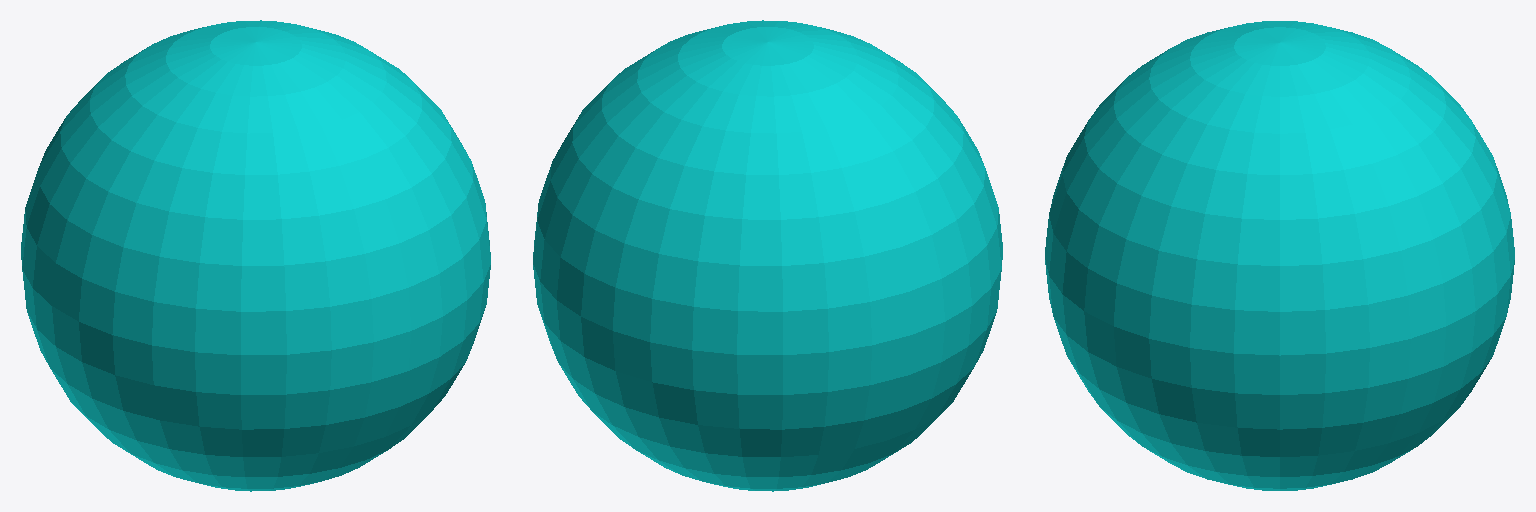
URDF robot description (ant):
<?xml version="1.0" ?>
<robot name="ant">
	<material name="light_blue">
    	<color rgba="0.1 0.85 0.85 1.0"/>
 	</material>
	<link name="torso">
		<inertial>
			<origin rpy="0.00000 -0.00000 0.00000" xyz="0.00000 0.00000 0.00000"/>
			<mass value="65.44985"/>
			<inertia ixx="1.63625" ixy="0" ixz="0" iyy="1.63625" iyz="0" izz="1.63625"/>
			<geometry>
				<sphere radius="0.25000"/>
			</geometry>
		</inertial>
		<visual>
			<origin rpy="0.00000 -0.00000 0.00000" xyz="0.00000 0.00000 0.00000"/>
			<geometry>
				<sphere radius="0.25000"/>
			</geometry>
			<material name="light_blue"/>
		</visual>
		<collision>
			<origin rpy="0.00000 -0.00000 0.00000" xyz="0.00000 0.00000 0.00000"/>
			<geometry>
				<sphere radius="0.25000"/>
			</geometry>
		</collision>
	</link>
	<link name="front_left_leg">
		<inertial>
			<origin rpy="0.00000 -0.00000 0.00000" xyz="0.10000 0.10000 0.00000"/>
			<mass value="7.83155"/>
			<inertia ixx="0.17951" ixy="0" ixz="0" iyy="0.17951" iyz="0" izz="0.29219"/>
		</inertial>
		<visual>
			<origin rpy="-1.57080 0.78540 -0.78540" xyz="0.10000 0.10000 0.00000"/>
			<geometry>
				<capsule length="0.28284" radius="0.08000"/>
			</geometry>
			<material name="light_blue"/>
		</visual>
		<collision>
			<origin rpy="-1.57080 0.78540 -0.78540" xyz="0.10000 0.10000 0.00000"/>
			<geometry>
				<capsule length="0.28284" radius="0.08000"/>
			</geometry>
		</collision>
	</link>
	<link name="link0_3">
		<inertial>
			<origin rpy="0.00000 -0.00000 0.00000" xyz="0.00000 0.00000 0.00000"/>
			<mass value="0.00000"/>
			<inertia ixx="0.00000" ixy="0" ixz="0" iyy="0.00000" iyz="0" izz="0.00000"/>
		</inertial>
	</link>
	<link name="aux_1">
		<inertial>
			<origin rpy="0.00000 -0.00000 0.00000" xyz="0.10000 0.10000 0.00000"/>
			<mass value="7.83155"/>
			<inertia ixx="0.17951" ixy="0" ixz="0" iyy="0.17951" iyz="0" izz="0.29219"/>
		</inertial>
		<visual>
			<origin rpy="-1.57080 0.78540 -0.78540" xyz="0.10000 0.10000 0.00000"/>
			<geometry>
				<capsule length="0.28284" radius="0.08000"/>
			</geometry>
			<material name="light_blue"/>
		</visual>
		<collision>
			<origin rpy="-1.57080 0.78540 -0.78540" xyz="0.10000 0.10000 0.00000"/>
			<geometry>
				<capsule length="0.28284" radius="0.08000"/>
			</geometry>
		</collision>
	</link>
	<link name="link0_5">
		<inertial>
			<origin rpy="0.00000 -0.00000 0.00000" xyz="0.00000 0.00000 0.00000"/>
			<mass value="0.00000"/>
			<inertia ixx="0.00000" ixy="0" ixz="0" iyy="0.00000" iyz="0" izz="0.00000"/>
		</inertial>
	</link>
	<link name="front_left_foot">
		<inertial>
			<origin rpy="0.00000 -0.00000 0.00000" xyz="0.20000 0.20000 0.00000"/>
			<mass value="13.51844"/>
			<inertia ixx="0.56813" ixy="0" ixz="0" iyy="0.56813" iyz="0" izz="1.02090"/>
		</inertial>
		<visual>
			<origin rpy="-1.57080 0.78540 -0.78540" xyz="0.20000 0.20000 0.00000"/>
			<geometry>
				<capsule length="0.56569" radius="0.08000"/>
			</geometry>
			<material name="light_blue"/>
		</visual>
		<collision>
			<origin rpy="-1.57080 0.78540 -0.78540" xyz="0.20000 0.20000 0.00000"/>
			<geometry>
				<capsule length="0.56569" radius="0.08000"/>
			</geometry>
		</collision>
	</link>
	<link name="front_right_leg">
		<inertial>
			<origin rpy="0.00000 -0.00000 0.00000" xyz="-0.10000 0.10000 0.00000"/>
			<mass value="7.83155"/>
			<inertia ixx="0.17951" ixy="0" ixz="0" iyy="0.17951" iyz="0" izz="0.29219"/>
		</inertial>
		<visual>
			<origin rpy="-1.57080 -0.78540 0.78540" xyz="-0.10000 0.10000 0.00000"/>
			<geometry>
				<capsule length="0.28284" radius="0.08000"/>
			</geometry>
			<material name="light_blue"/>
		</visual>
		<collision>
			<origin rpy="-1.57080 -0.78540 0.78540" xyz="-0.10000 0.10000 0.00000"/>
			<geometry>
				<capsule length="0.28284" radius="0.08000"/>
			</geometry>
		</collision>
	</link>
	<link name="link0_8">
		<inertial>
			<origin rpy="0.00000 -0.00000 0.00000" xyz="0.00000 0.00000 0.00000"/>
			<mass value="0.00000"/>
			<inertia ixx="0.00000" ixy="0" ixz="0" iyy="0.00000" iyz="0" izz="0.00000"/>
		</inertial>
	</link>
	<link name="aux_2">
		<inertial>
			<origin rpy="0.00000 -0.00000 0.00000" xyz="-0.10000 0.10000 0.00000"/>
			<mass value="7.83155"/>
			<inertia ixx="0.17951" ixy="0" ixz="0" iyy="0.17951" iyz="0" izz="0.29219"/>
		</inertial>
		<visual>
			<origin rpy="-1.57080 -0.78540 0.78540" xyz="-0.10000 0.10000 0.00000"/>
			<geometry>
				<capsule length="0.28284" radius="0.08000"/>
			</geometry>
			<material name="light_blue"/>
		</visual>
		<collision>
			<origin rpy="-1.57080 -0.78540 0.78540" xyz="-0.10000 0.10000 0.00000"/>
			<geometry>
				<capsule length="0.28284" radius="0.08000"/>
			</geometry>
		</collision>
	</link>
	<link name="link0_10">
		<inertial>
			<origin rpy="0.00000 -0.00000 0.00000" xyz="0.00000 0.00000 0.00000"/>
			<mass value="0.00000"/>
			<inertia ixx="0.00000" ixy="0" ixz="0" iyy="0.00000" iyz="0" izz="0.00000"/>
		</inertial>
	</link>
	<link name="front_right_foot">
		<inertial>
			<origin rpy="0.00000 -0.00000 0.00000" xyz="-0.20000 0.20000 0.00000"/>
			<mass value="13.51844"/>
			<inertia ixx="0.56813" ixy="0" ixz="0" iyy="0.56813" iyz="0" izz="1.02090"/>
		</inertial>
		<visual>
			<origin rpy="-1.57080 -0.78540 0.78540" xyz="-0.20000 0.20000 0.00000"/>
			<geometry>
				<capsule length="0.56569" radius="0.08000"/>
			</geometry>
			<material name="light_blue"/>
		</visual>
		<collision>
			<origin rpy="-1.57080 -0.78540 0.78540" xyz="-0.20000 0.20000 0.00000"/>
			<geometry>
				<capsule length="0.56569" radius="0.08000"/>
			</geometry>
		</collision>
	</link>
	<link name="left_back_leg">
		<inertial>
			<origin rpy="0.00000 -0.00000 0.00000" xyz="-0.10000 -0.10000 0.00000"/>
			<mass value="7.83155"/>
			<inertia ixx="0.17951" ixy="0" ixz="0" iyy="0.17951" iyz="0" izz="0.29219"/>
		</inertial>
		<visual>
			<origin rpy="1.57080 -0.78540 -0.78540" xyz="-0.10000 -0.10000 0.00000"/>
			<geometry>
				<capsule length="0.28284" radius="0.08000"/>
			</geometry>
			<material name="light_blue"/>
		</visual>
		<collision>
			<origin rpy="1.57080 -0.78540 -0.78540" xyz="-0.10000 -0.10000 0.00000"/>
			<geometry>
				<capsule length="0.28284" radius="0.08000"/>
			</geometry>
		</collision>
	</link>
	<link name="link0_13">
		<inertial>
			<origin rpy="0.00000 -0.00000 0.00000" xyz="0.00000 0.00000 0.00000"/>
			<mass value="0.00000"/>
			<inertia ixx="0.00000" ixy="0" ixz="0" iyy="0.00000" iyz="0" izz="0.00000"/>
		</inertial>
	</link>
	<link name="aux_3">
		<inertial>
			<origin rpy="0.00000 -0.00000 0.00000" xyz="-0.10000 -0.10000 0.00000"/>
			<mass value="7.83155"/>
			<inertia ixx="0.17951" ixy="0" ixz="0" iyy="0.17951" iyz="0" izz="0.29219"/>
		</inertial>
		<visual>
			<origin rpy="1.57080 -0.78540 -0.78540" xyz="-0.10000 -0.10000 0.00000"/>
			<geometry>
				<capsule length="0.28284" radius="0.08000"/>
			</geometry>
			<material name="light_blue"/>
		</visual>
		<collision>
			<origin rpy="1.57080 -0.78540 -0.78540" xyz="-0.10000 -0.10000 0.00000"/>
			<geometry>
				<capsule length="0.28284" radius="0.08000"/>
			</geometry>
		</collision>
	</link>
	<link name="link0_15">
		<inertial>
			<origin rpy="0.00000 -0.00000 0.00000" xyz="0.00000 0.00000 0.00000"/>
			<mass value="0.00000"/>
			<inertia ixx="0.00000" ixy="0" ixz="0" iyy="0.00000" iyz="0" izz="0.00000"/>
		</inertial>
	</link>
	<link name="left_back_foot">
		<inertial>
			<origin rpy="0.00000 -0.00000 0.00000" xyz="-0.20000 -0.20000 0.00000"/>
			<mass value="13.51844"/>
			<inertia ixx="0.56813" ixy="0" ixz="0" iyy="0.56813" iyz="0" izz="1.02090"/>
		</inertial>
		<visual>
			<origin rpy="1.57080 -0.78540 -0.78540" xyz="-0.20000 -0.20000 0.00000"/>
			<geometry>
				<capsule length="0.56569" radius="0.08000"/>
			</geometry>
			<material name="light_blue"/>
		</visual>
		<collision>
			<origin rpy="1.57080 -0.78540 -0.78540" xyz="-0.20000 -0.20000 0.00000"/>
			<geometry>
				<capsule length="0.56569" radius="0.08000"/>
			</geometry>
		</collision>
	</link>
	<link name="right_back_leg">
		<inertial>
			<origin rpy="0.00000 -0.00000 0.00000" xyz="0.10000 -0.10000 0.00000"/>
			<mass value="7.83155"/>
			<inertia ixx="0.17951" ixy="0" ixz="0" iyy="0.17951" iyz="0" izz="0.29219"/>
		</inertial>
		<visual>
			<origin rpy="1.57080 0.78540 0.78540" xyz="0.10000 -0.10000 0.00000"/>
			<geometry>
				<capsule length="0.28284" radius="0.08000"/>
			</geometry>
			<material name="light_blue"/>
		</visual>
		<collision>
			<origin rpy="1.57080 0.78540 0.78540" xyz="0.10000 -0.10000 0.00000"/>
			<geometry>
				<capsule length="0.28284" radius="0.08000"/>
			</geometry>
		</collision>
	</link>
	<link name="link0_18">
		<inertial>
			<origin rpy="0.00000 -0.00000 0.00000" xyz="0.00000 0.00000 0.00000"/>
			<mass value="0.00000"/>
			<inertia ixx="0.00000" ixy="0" ixz="0" iyy="0.00000" iyz="0" izz="0.00000"/>
		</inertial>
	</link>
	<link name="aux_4">
		<inertial>
			<origin rpy="0.00000 -0.00000 0.00000" xyz="0.10000 -0.10000 0.00000"/>
			<mass value="7.83155"/>
			<inertia ixx="0.17951" ixy="0" ixz="0" iyy="0.17951" iyz="0" izz="0.29219"/>
		</inertial>
		<visual>
			<origin rpy="1.57080 0.78540 0.78540" xyz="0.10000 -0.10000 0.00000"/>
			<geometry>
				<capsule length="0.28284" radius="0.08000"/>
			</geometry>
			<material name="light_blue"/>
		</visual>
		<collision>
			<origin rpy="1.57080 0.78540 0.78540" xyz="0.10000 -0.10000 0.00000"/>
			<geometry>
				<capsule length="0.28284" radius="0.08000"/>
			</geometry>
		</collision>
	</link>
	<link name="link0_20">
		<inertial>
			<origin rpy="0.00000 -0.00000 0.00000" xyz="0.00000 0.00000 0.00000"/>
			<mass value="0.00000"/>
			<inertia ixx="0.00000" ixy="0" ixz="0" iyy="0.00000" iyz="0" izz="0.00000"/>
		</inertial>
	</link>
	<link name="right_back_foot">
		<inertial>
			<origin rpy="0.00000 -0.00000 0.00000" xyz="0.20000 -0.20000 0.00000"/>
			<mass value="13.51844"/>
			<inertia ixx="0.56813" ixy="0" ixz="0" iyy="0.56813" iyz="0" izz="1.02090"/>
		</inertial>
		<visual>
			<origin rpy="1.57080 0.78540 0.78540" xyz="0.20000 -0.20000 0.00000"/>
			<geometry>
				<capsule length="0.56569" radius="0.08000"/>
			</geometry>
			<material name="light_blue"/>
		</visual>
		<collision>
			<origin rpy="1.57080 0.78540 0.78540" xyz="0.20000 -0.20000 0.00000"/>
			<geometry>
				<capsule length="0.56569" radius="0.08000"/>
			</geometry>
		</collision>
	</link>
	<joint name="jointfix_2_0" type="fixed">
		<parent link="torso"/>
		<child link="front_left_leg"/>
		<dynamics damping="1.0" friction="0.0001"/>
		<origin rpy="0.00000 -0.00000 0.00000" xyz="0.00000 0.00000 0.00000"/>
		<axis xyz="0.00000 0.00000 0.00000"/>
		<limit effort="44.4" lower="-1" upper="1" velocity="40"/>
	</joint>
	<joint name="hip_1" type="revolute">
		<parent link="front_left_leg"/>
		<child link="link0_3"/>
		<dynamics damping="1.0" friction="0.0001"/>
		<origin rpy="0.00000 -0.00000 0.00000" xyz="0.20000 0.20000 0.00000"/>
		<axis xyz="0.00000 0.00000 1.00000"/>
		<limit effort="44.4" lower="-1" upper="1" velocity="40"/>
	</joint>
	<joint name="jointfix_1_3" type="fixed">
		<parent link="link0_3"/>
		<child link="aux_1"/>
		<dynamics damping="1.0" friction="0.0001"/>
		<origin rpy="0.00000 -0.00000 0.00000" xyz="0.00000 0.00000 0.00000"/>
		<axis xyz="0.00000 0.00000 0.00000"/>
		<limit effort="44.4" lower="-1" upper="1" velocity="40"/>
	</joint>
	<joint name="ankle_1" type="revolute">
		<parent link="aux_1"/>
		<child link="link0_5"/>
		<dynamics damping="1.0" friction="0.0001"/>
		<origin rpy="0.00000 -0.00000 0.00000" xyz="0.20000 0.20000 0.00000"/>
		<axis xyz="-1.00000 1.00000 0.00000"/>
		<limit effort="44.4" lower="-1" upper="1" velocity="40"/>
	</joint>
	<joint name="jointfix_0_5" type="fixed">
		<parent link="link0_5"/>
		<child link="front_left_foot"/>
		<dynamics damping="1.0" friction="0.0001"/>
		<origin rpy="0.00000 -0.00000 0.00000" xyz="0.00000 0.00000 0.00000"/>
		<axis xyz="0.00000 0.00000 0.00000"/>
		<limit effort="44.4" lower="-1" upper="1" velocity="40"/>
	</joint>
	<joint name="jointfix_5_0" type="fixed">
		<parent link="torso"/>
		<child link="front_right_leg"/>
		<dynamics damping="1.0" friction="0.0001"/>
		<origin rpy="0.00000 -0.00000 0.00000" xyz="0.00000 0.00000 0.00000"/>
		<axis xyz="0.00000 0.00000 0.00000"/>
		<limit effort="44.4" lower="-1" upper="1" velocity="40"/>
	</joint>
	<joint name="hip_2" type="revolute">
		<parent link="front_right_leg"/>
		<child link="link0_8"/>
		<dynamics damping="1.0" friction="0.0001"/>
		<origin rpy="0.00000 -0.00000 0.00000" xyz="-0.20000 0.20000 0.00000"/>
		<axis xyz="0.00000 0.00000 1.00000"/>
		<limit effort="44.4" lower="-1" upper="1" velocity="40"/>
	</joint>
	<joint name="jointfix_4_8" type="fixed">
		<parent link="link0_8"/>
		<child link="aux_2"/>
		<dynamics damping="1.0" friction="0.0001"/>
		<origin rpy="0.00000 -0.00000 0.00000" xyz="0.00000 0.00000 0.00000"/>
		<axis xyz="0.00000 0.00000 0.00000"/>
		<limit effort="44.4" lower="-1" upper="1" velocity="40"/>
	</joint>
	<joint name="ankle_2" type="revolute">
		<parent link="aux_2"/>
		<child link="link0_10"/>
		<dynamics damping="1.0" friction="0.0001"/>
		<origin rpy="0.00000 -0.00000 0.00000" xyz="-0.20000 0.20000 0.00000"/>
		<axis xyz="1.00000 1.00000 0.00000"/>
		<limit effort="44.4" lower="-1" upper="1" velocity="40"/>
	</joint>
	<joint name="jointfix_3_10" type="fixed">
		<parent link="link0_10"/>
		<child link="front_right_foot"/>
		<dynamics damping="1.0" friction="0.0001"/>
		<origin rpy="0.00000 -0.00000 0.00000" xyz="0.00000 0.00000 0.00000"/>
		<axis xyz="0.00000 0.00000 0.00000"/>
		<limit effort="44.4" lower="-1" upper="1" velocity="40"/>
	</joint>
	<joint name="jointfix_8_0" type="fixed">
		<parent link="torso"/>
		<child link="left_back_leg"/>
		<dynamics damping="1.0" friction="0.0001"/>
		<origin rpy="0.00000 -0.00000 0.00000" xyz="0.00000 0.00000 0.00000"/>
		<axis xyz="0.00000 0.00000 0.00000"/>
		<limit effort="44.4" lower="-1" upper="1" velocity="40"/>
	</joint>
	<joint name="hip_3" type="revolute">
		<parent link="left_back_leg"/>
		<child link="link0_13"/>
		<dynamics damping="1.0" friction="0.0001"/>
		<origin rpy="0.00000 -0.00000 0.00000" xyz="-0.20000 -0.20000 0.00000"/>
		<axis xyz="0.00000 0.00000 1.00000"/>
		<limit effort="44.4" lower="-1" upper="1" velocity="40"/>
	</joint>
	<joint name="jointfix_7_13" type="fixed">
		<parent link="link0_13"/>
		<child link="aux_3"/>
		<dynamics damping="1.0" friction="0.0001"/>
		<origin rpy="0.00000 -0.00000 0.00000" xyz="0.00000 0.00000 0.00000"/>
		<axis xyz="0.00000 0.00000 0.00000"/>
		<limit effort="44.4" lower="-1" upper="1" velocity="40"/>
	</joint>
	<joint name="ankle_3" type="revolute">
		<parent link="aux_3"/>
		<child link="link0_15"/>
		<dynamics damping="1.0" friction="0.0001"/>
		<origin rpy="0.00000 -0.00000 0.00000" xyz="-0.20000 -0.20000 0.00000"/>
		<axis xyz="-1.00000 1.00000 0.00000"/>
		<limit effort="44.4" lower="-1" upper="1" velocity="40"/>
	</joint>
	<joint name="jointfix_6_15" type="fixed">
		<parent link="link0_15"/>
		<child link="left_back_foot"/>
		<dynamics damping="1.0" friction="0.0001"/>
		<origin rpy="0.00000 -0.00000 0.00000" xyz="0.00000 0.00000 0.00000"/>
		<axis xyz="0.00000 0.00000 0.00000"/>
		<limit effort="44.4" lower="-1" upper="1" velocity="40"/>
	</joint>
	<joint name="jointfix_11_0" type="fixed">
		<parent link="torso"/>
		<child link="right_back_leg"/>
		<dynamics damping="1.0" friction="0.0001"/>
		<origin rpy="0.00000 -0.00000 0.00000" xyz="0.00000 0.00000 0.00000"/>
		<axis xyz="0.00000 0.00000 0.00000"/>
		<limit effort="44.4" lower="-1" upper="1" velocity="40"/>
	</joint>
	<joint name="hip_4" type="revolute">
		<parent link="right_back_leg"/>
		<child link="link0_18"/>
		<dynamics damping="1.0" friction="0.0001"/>
		<origin rpy="0.00000 -0.00000 0.00000" xyz="0.20000 -0.20000 0.00000"/>
		<axis xyz="0.00000 0.00000 1.00000"/>
		<limit effort="44.4" lower="-1" upper="1" velocity="40"/>
	</joint>
	<joint name="jointfix_10_18" type="fixed">
		<parent link="link0_18"/>
		<child link="aux_4"/>
		<dynamics damping="1.0" friction="0.0001"/>
		<origin rpy="0.00000 -0.00000 0.00000" xyz="0.00000 0.00000 0.00000"/>
		<axis xyz="0.00000 0.00000 0.00000"/>
		<limit effort="44.4" lower="-1" upper="1" velocity="40"/>
	</joint>
	<joint name="ankle_4" type="revolute">
		<parent link="aux_4"/>
		<child link="link0_20"/>
		<dynamics damping="1.0" friction="0.0001"/>
		<origin rpy="0.00000 -0.00000 0.00000" xyz="0.20000 -0.20000 0.00000"/>
		<axis xyz="1.00000 1.00000 0.00000"/>
		<limit effort="44.4" lower="-1" upper="1" velocity="40"/>
	</joint>
	<joint name="jointfix_9_20" type="fixed">
		<parent link="link0_20"/>
		<child link="right_back_foot"/>
		<dynamics damping="1.0" friction="0.0001"/>
		<origin rpy="0.00000 -0.00000 0.00000" xyz="0.00000 0.00000 0.00000"/>
		<axis xyz="0.00000 0.00000 0.00000"/>
		<limit effort="44.4" lower="-1" upper="1" velocity="40"/>
	</joint>
</robot>

--- Facts derived from the render (not from the file) ---
3 views of the same robot in one strip: view 1: azimuth 30°, elevation 25°; view 2: azimuth 150°, elevation 25°; view 3: azimuth 270°, elevation 25° (orthographic).
Robot: ant — 21 links, 20 joints (8 revolute, 12 fixed); root link torso; default pose: all joints at 0.
Links seen in each view (by area): view 1: torso; view 2: torso; view 3: torso.
Boxes of the visible links, bbox=[...] form: torso: bbox=[21, 20, 490, 491]; torso: bbox=[533, 20, 1002, 491]; torso: bbox=[1045, 21, 1514, 490].
Size in the robot's own frame: 0.5 by 0.5 by 0.5 metres.
Geometry: primitives only (box / cylinder / sphere), no mesh files.